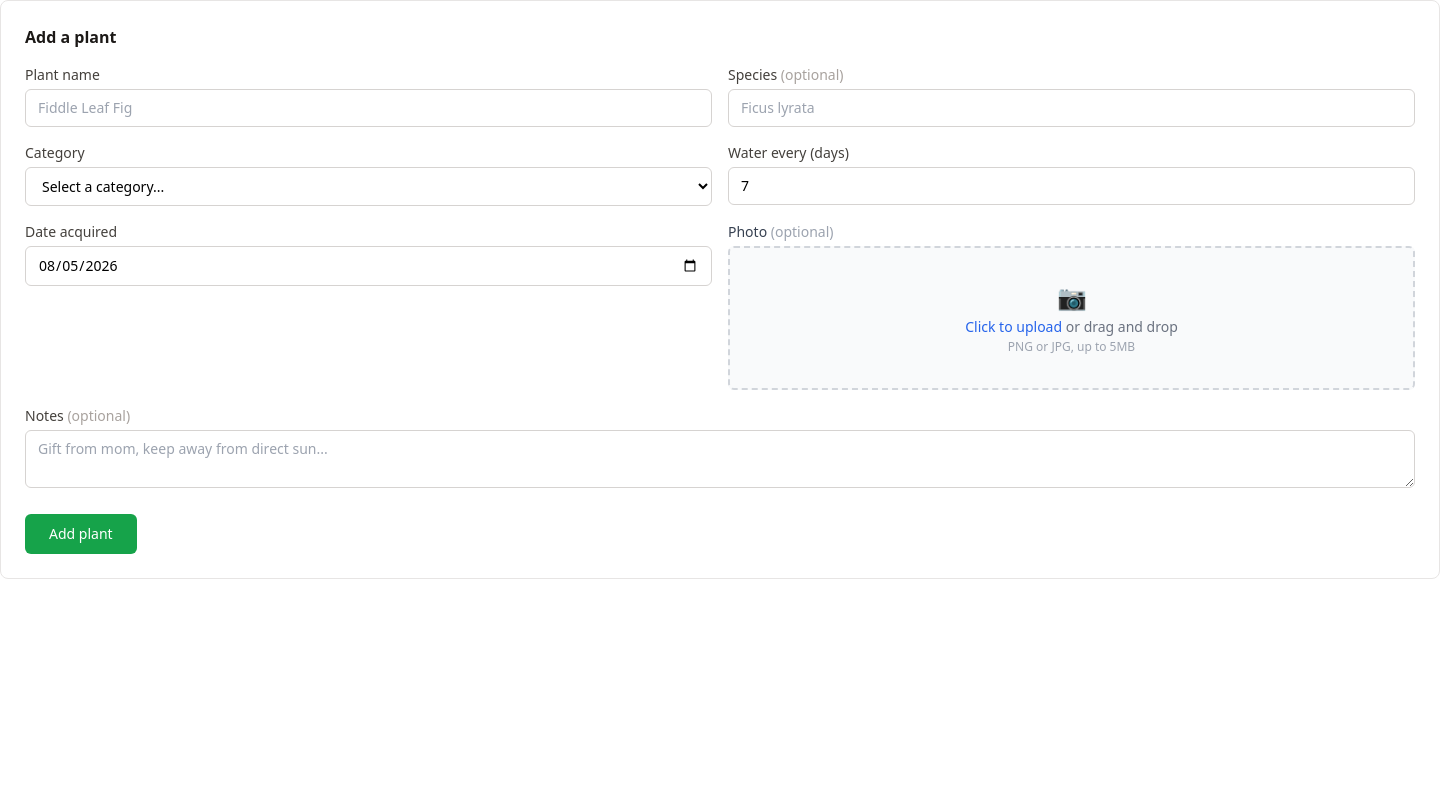
Test: PlantForm › shows a validation error when the name is under 2 characters
Step 1. Type "A" into the field with placeholder "Fiddle Leaf Fig" → (368, 108), box [25,89,712,127]
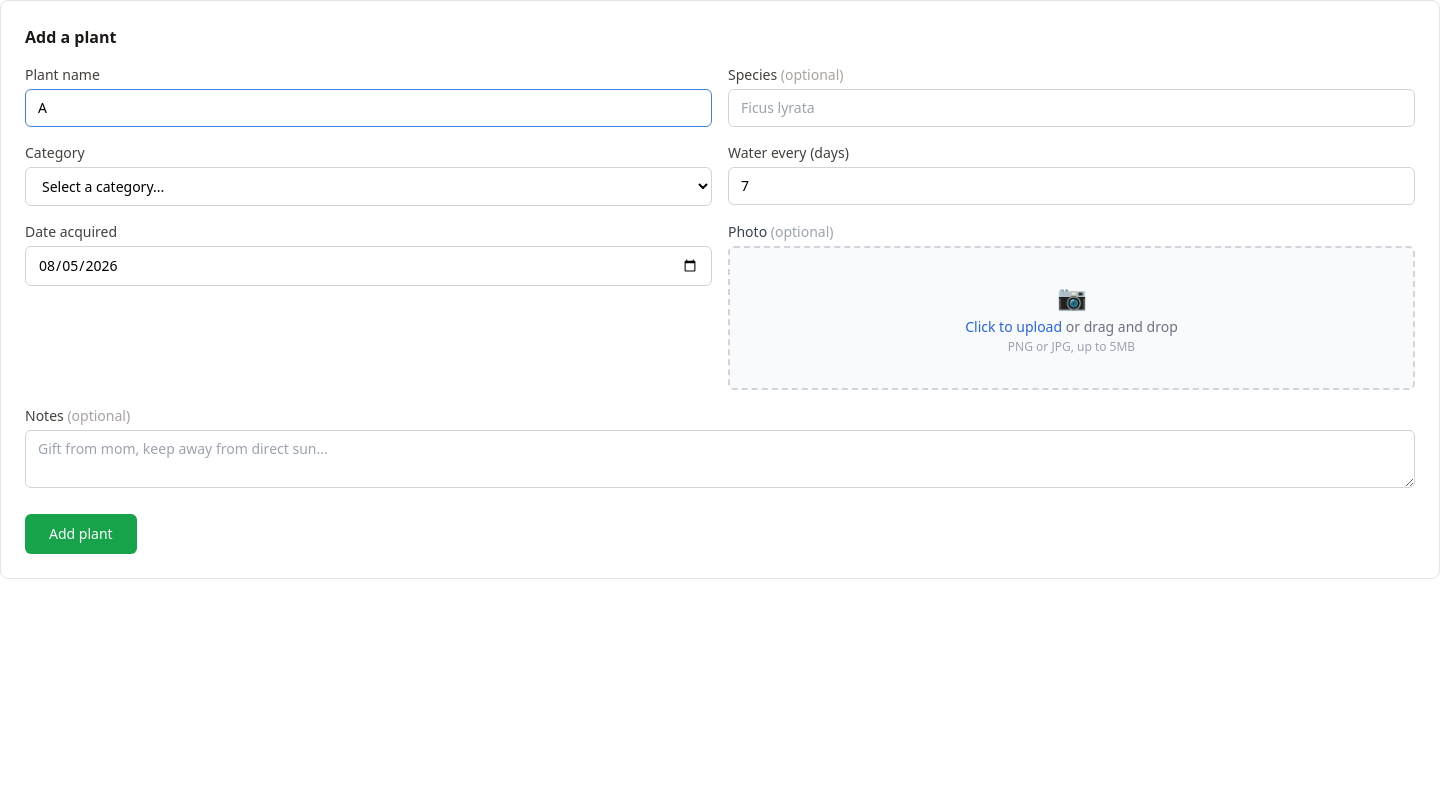
Step 2. Click the button "Add plant" → (81, 534), box [25,514,137,554]
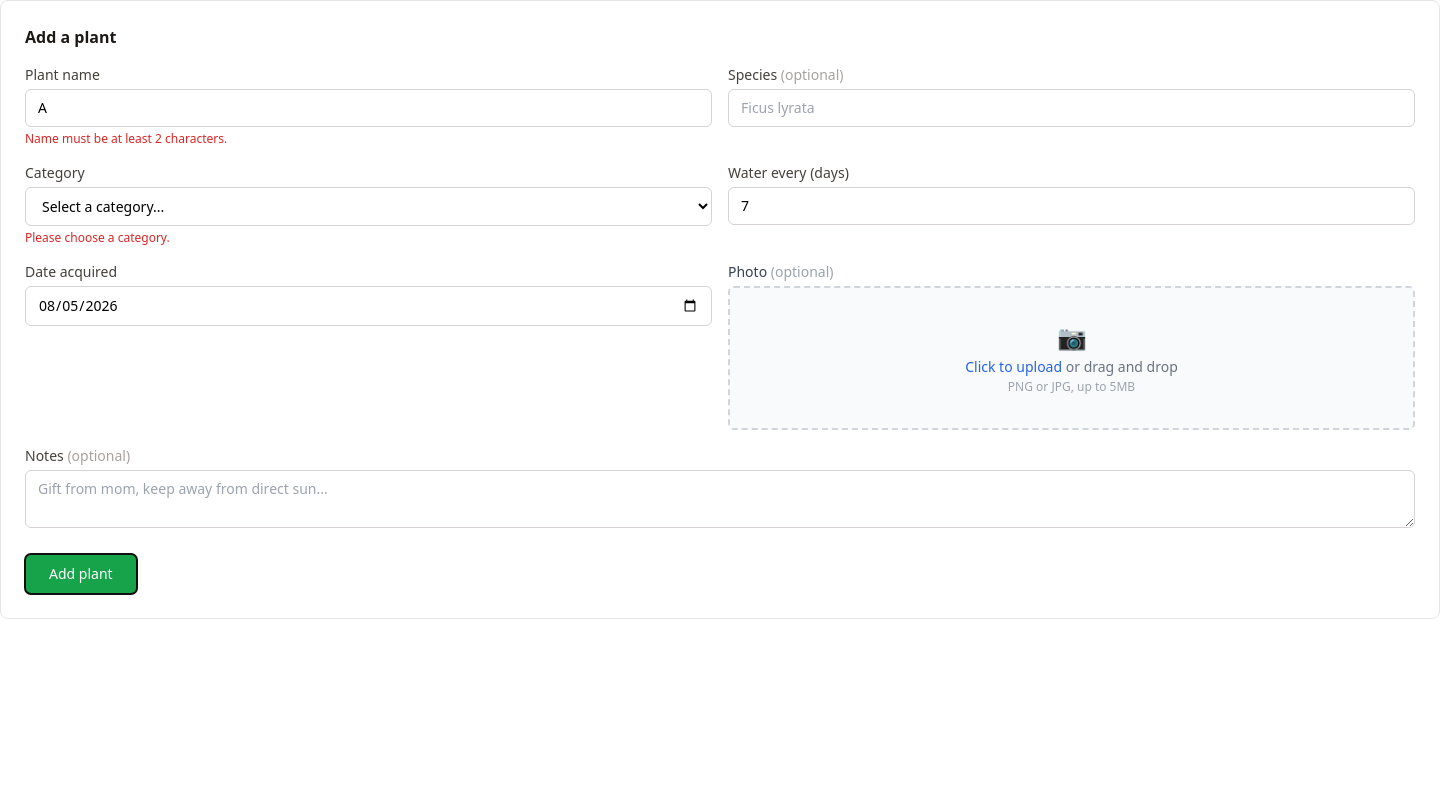
Expected: the text "Name must be at least 2 characters." is shown, [25,130,227,147]
